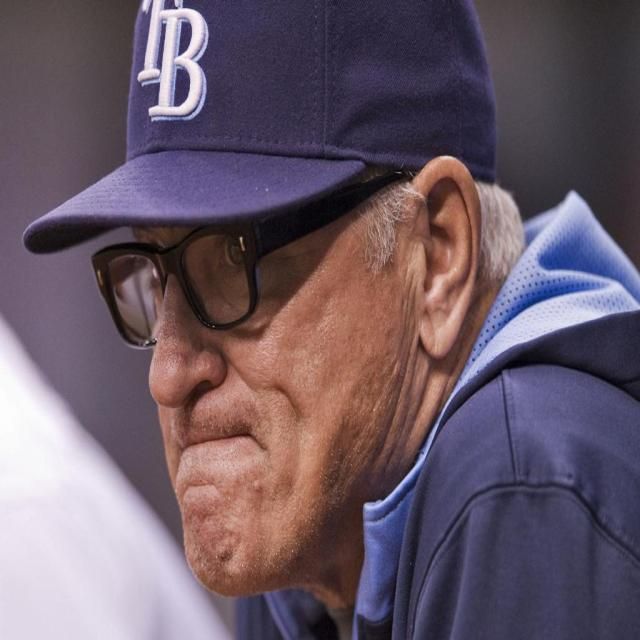Face: (126, 191, 400, 605)
